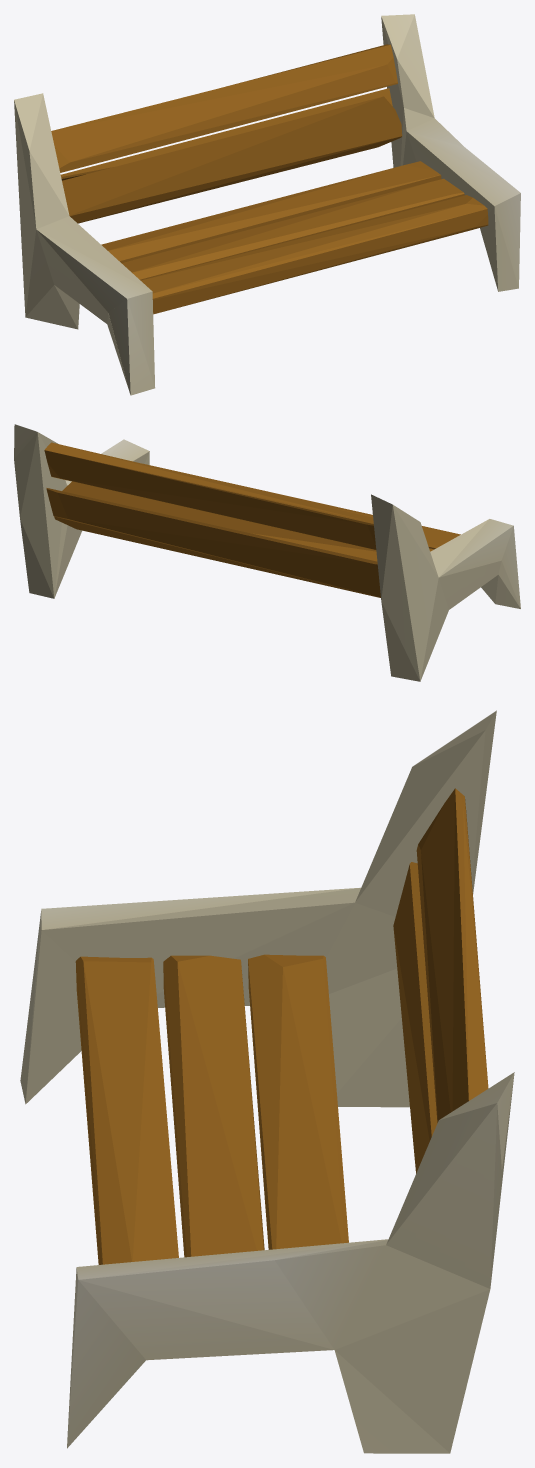
Rendered from bench.fbx.
The picture shows the model from 3 angles, top to bottom: view 1: azimuth 30°, elevation 25°; view 2: azimuth 150°, elevation 25°; view 3: azimuth 270°, elevation 25°; orthographic projection. The views are drawn at different scales.
Parts seen in each view (by area): view 1: bench; view 2: bench; view 3: bench.
Boxes of the visible parts, box(x1,y1,x2,y2) form: bench: box(14, 14, 520, 395); bench: box(14, 424, 520, 681); bench: box(20, 710, 514, 1453).
Bounding box in the file's own units: 267 × 125 × 146.
